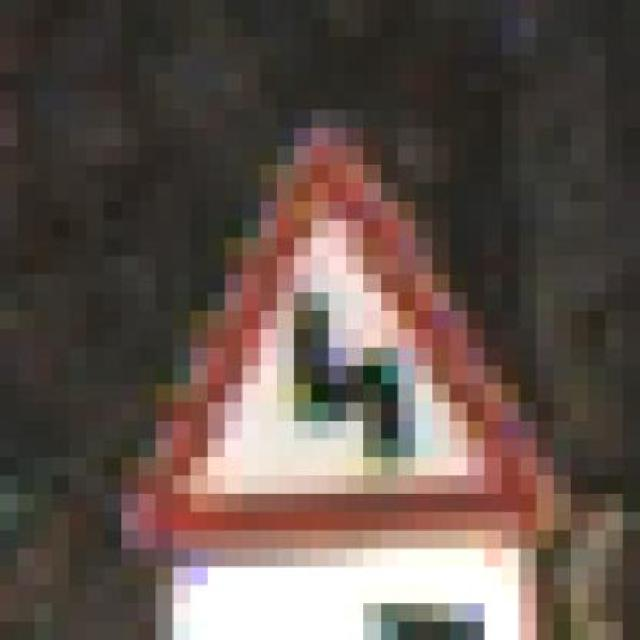Left Zig Zag Traffic: (86, 128, 571, 549)
